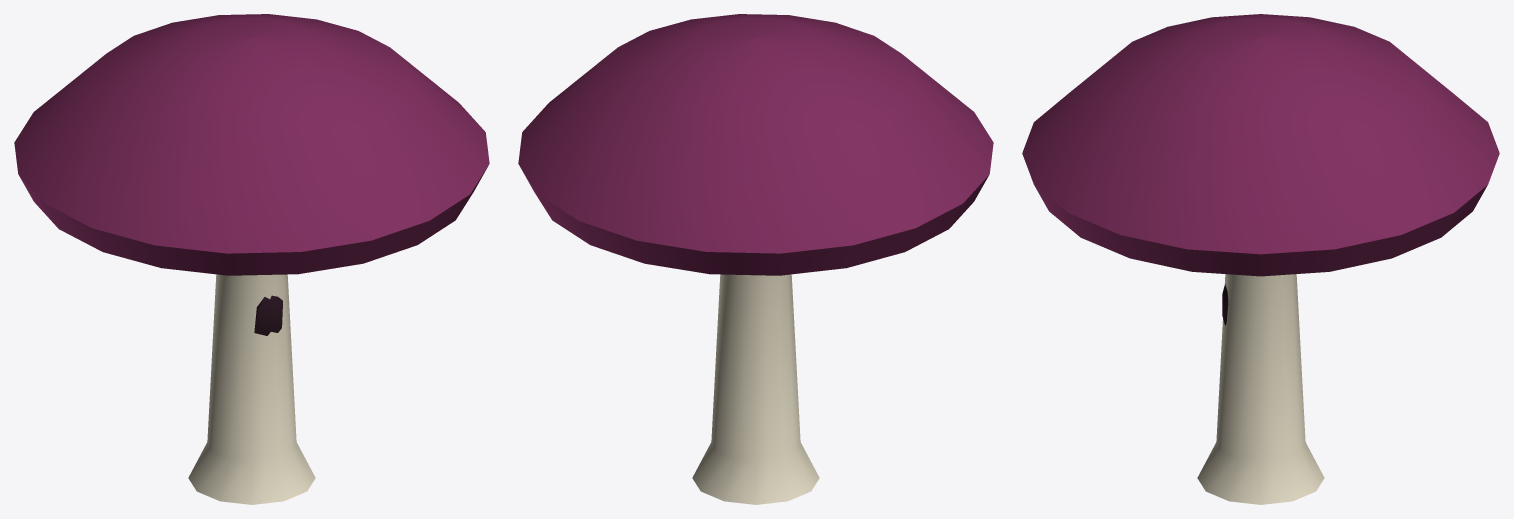
The model's file is big_toadstool.glb.
The picture shows the model from 3 angles, left to right: view 1: azimuth 30°, elevation 25°; view 2: azimuth 150°, elevation 25°; view 3: azimuth 270°, elevation 25°; orthographic projection.
Parts seen in each view (by area): view 1: big_toadstool; view 2: big_toadstool; view 3: big_toadstool.
Boxes of the visible parts, x1,y1,x2,y2 form: big_toadstool: (14,14,489,504); big_toadstool: (518,14,993,504); big_toadstool: (1022,14,1499,504).
Size of the model in its own units: 6 by 6.1 by 6.
